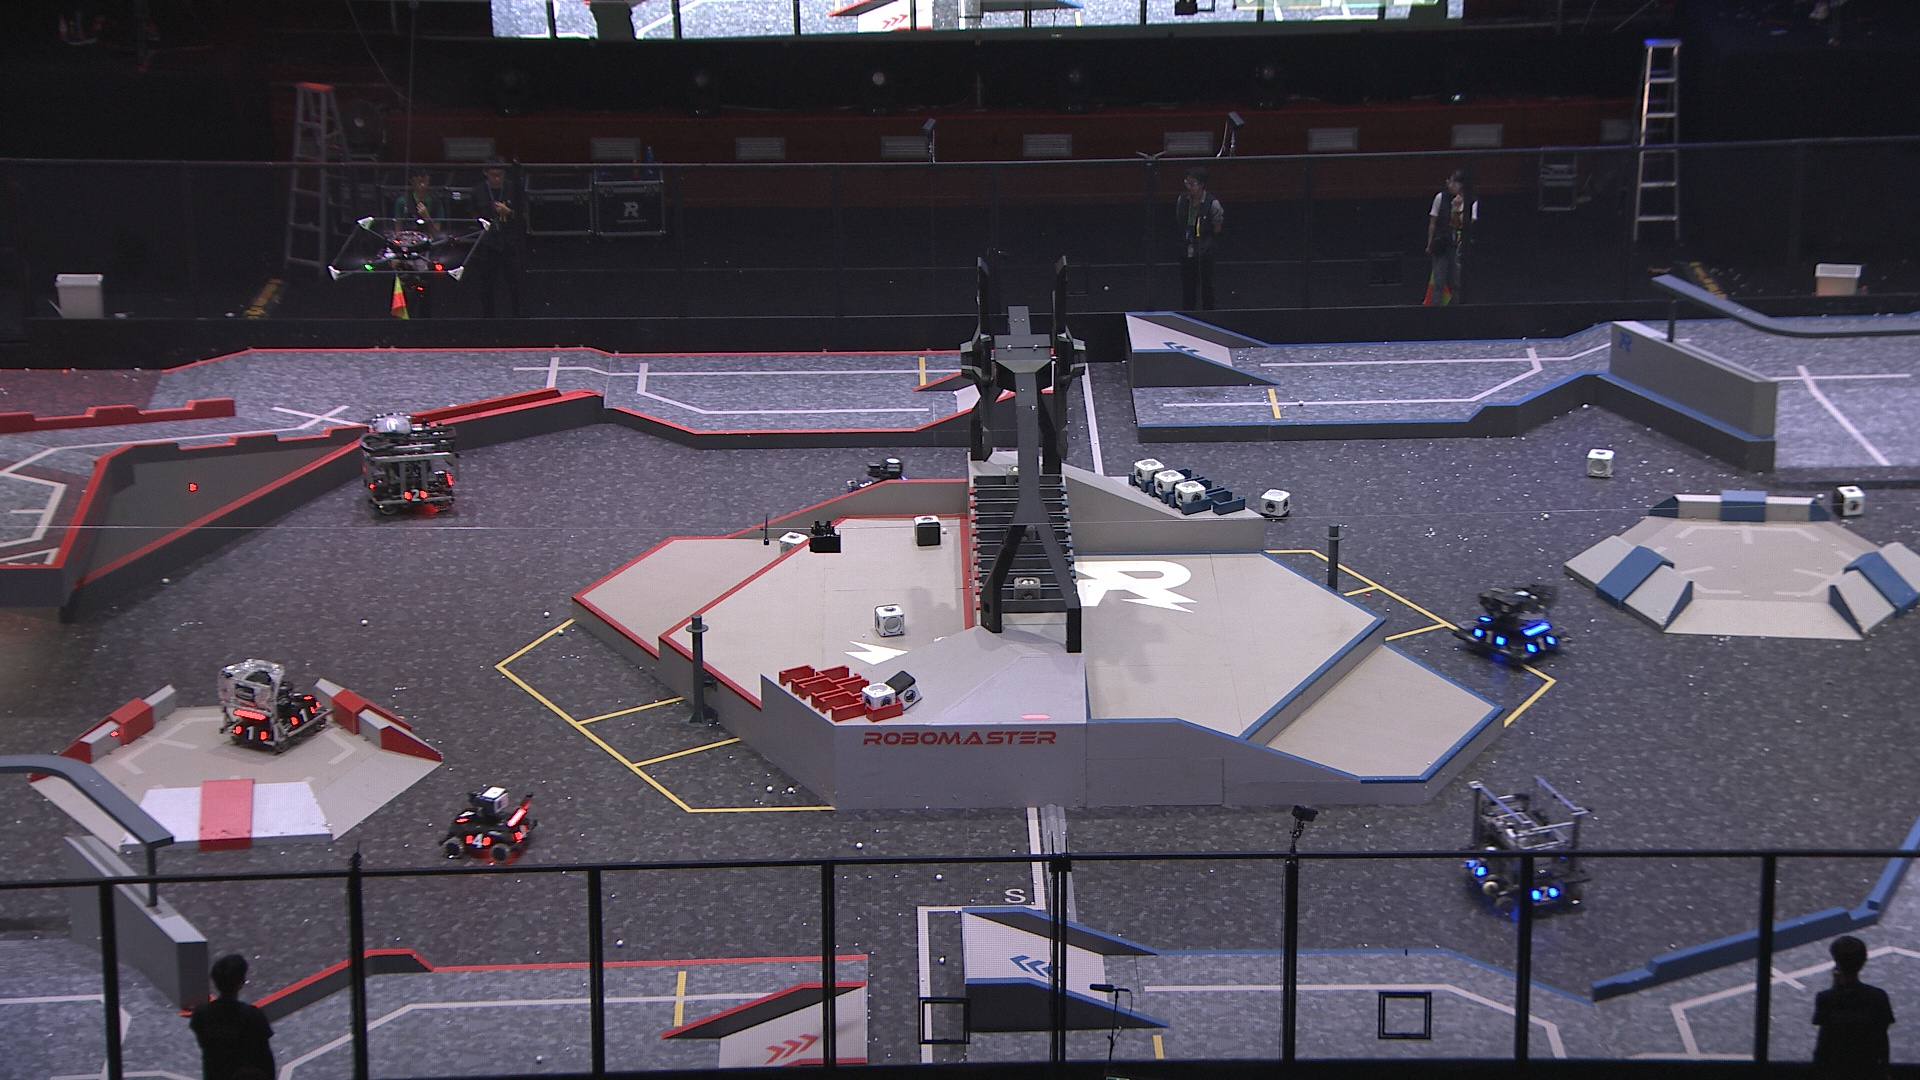armor: (1523, 626, 1557, 657), (1472, 622, 1509, 650), (1527, 880, 1564, 906), (231, 721, 266, 746), (462, 832, 495, 855), (290, 703, 316, 731), (1465, 855, 1490, 878), (512, 816, 533, 844), (284, 684, 314, 703), (400, 485, 429, 502), (454, 806, 475, 825), (858, 475, 877, 495)
car: (1458, 771, 1589, 920), (210, 655, 330, 756), (1447, 579, 1575, 670), (359, 409, 456, 520), (438, 782, 537, 869), (843, 455, 922, 514)
